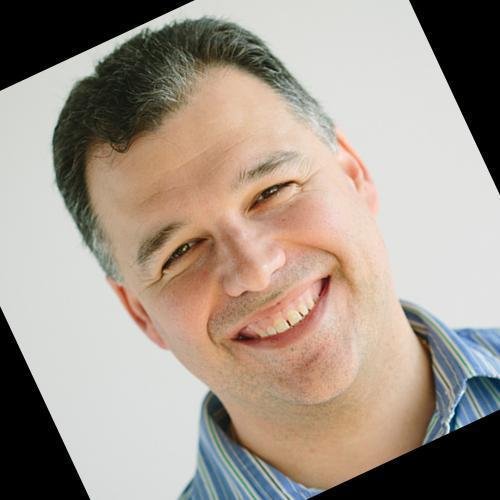Sober: (119, 125, 371, 383)
